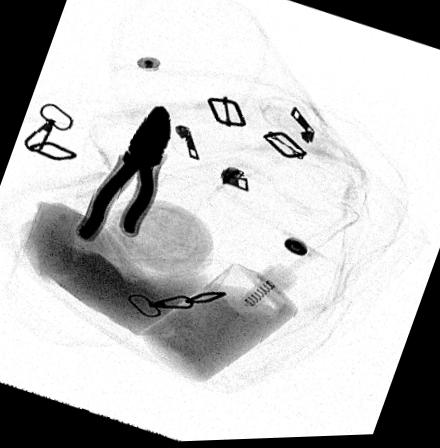Pliers: (79, 103, 172, 241)
